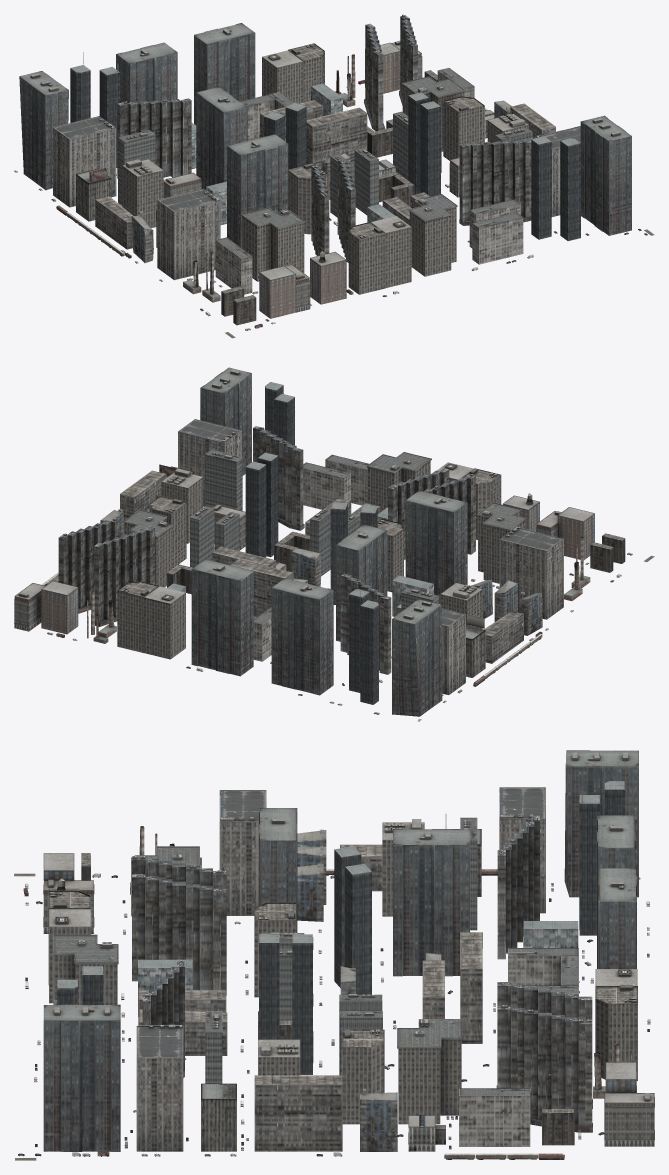
Rendered from city.fbx.
3 renders of one model, top to bottom at view 1: azimuth 30°, elevation 25°; view 2: azimuth 150°, elevation 25°; view 3: azimuth 270°, elevation 25°, orthographic. The views are drawn at different scales.
Visible parts, largest first — view 1: City; view 2: City; view 3: City.
Part boxes in pixels (x1,y1,x2,y2): City: [14, 14, 654, 338]; City: [14, 367, 654, 721]; City: [14, 750, 654, 1160].
Bounding box in the file's own units: 40714 × 10379 × 38460.
